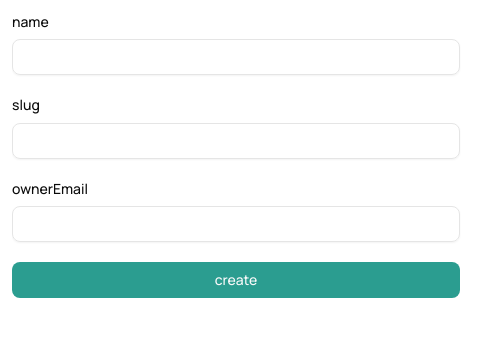
NewClubPage › keeps all three fields when the owner is not found
Type "Bebek Kürek Kulübü" into the field labelled "name" at (236, 57), box [12,39,460,75]
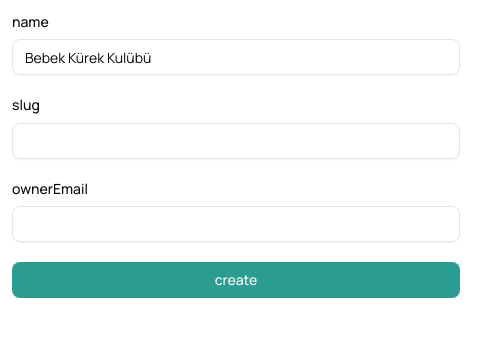
Type "bebek" into the field labelled "slug" at (236, 140), box [12,122,460,158]
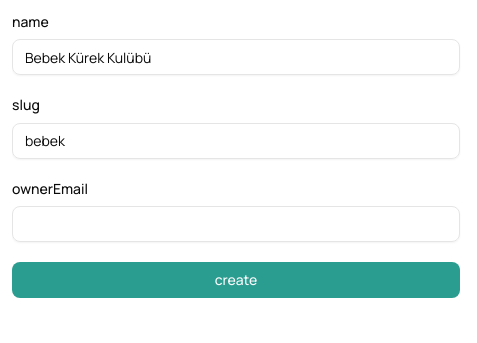
Type "owner@example.com" into the field labelled "ownerEmail" at (236, 224), box [12,206,460,242]
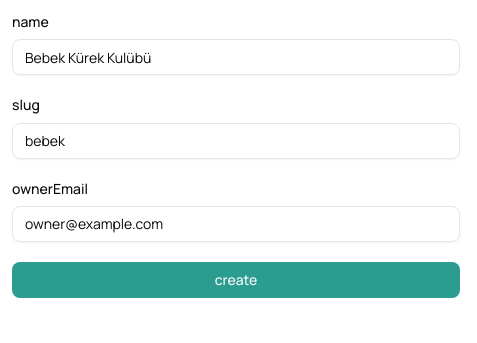
Submit the form
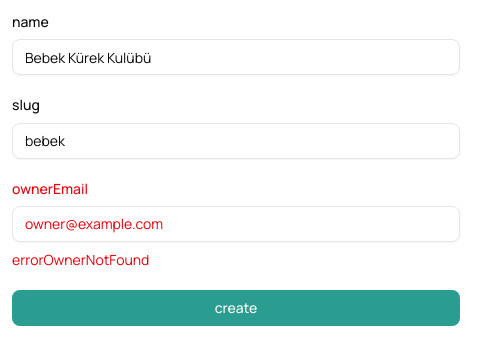
Expected: the text "errorOwnerNotFound" is shown, [12,250,149,269]
